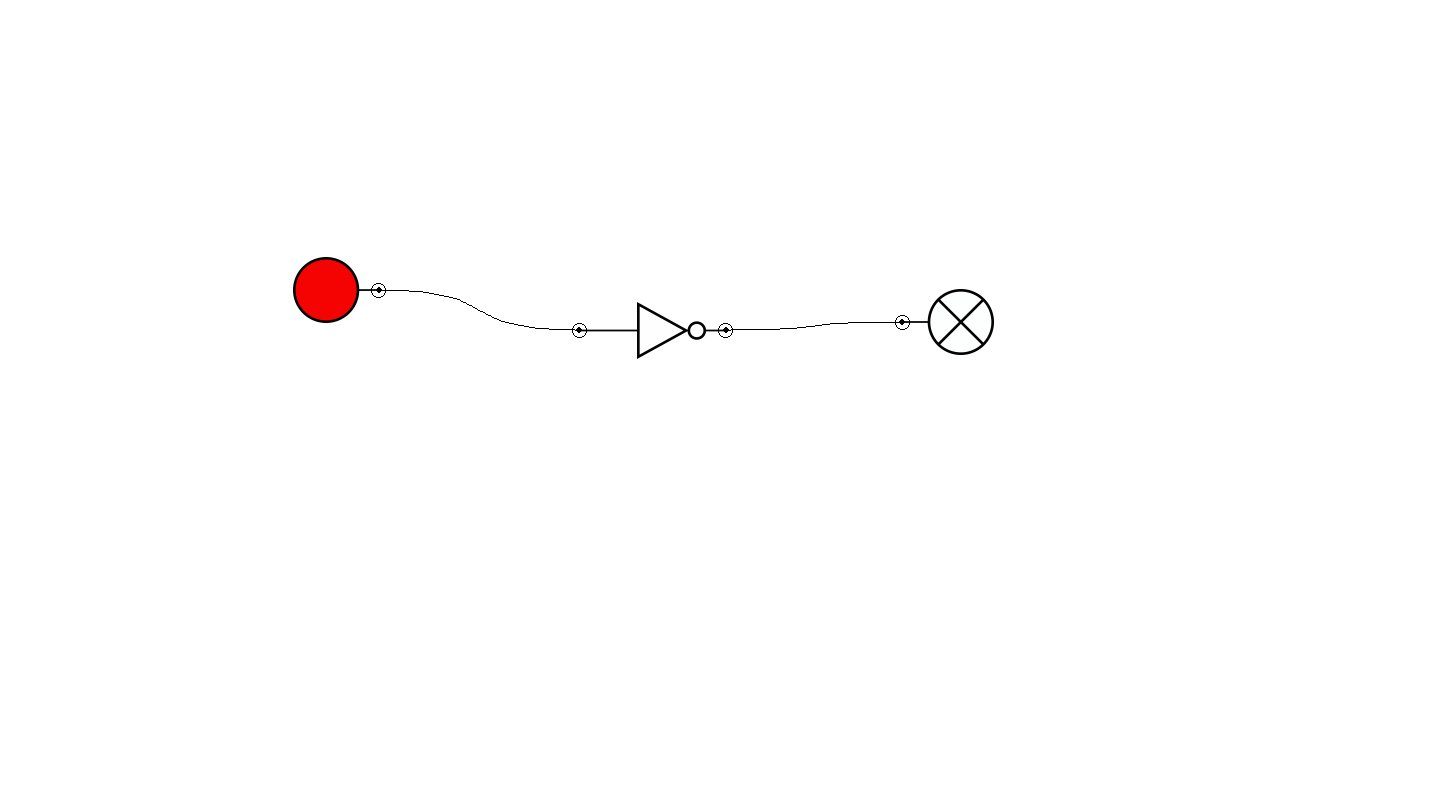bulb: (895, 289, 994, 355)
not: (572, 302, 733, 359)
switch_False: (293, 257, 386, 323)
